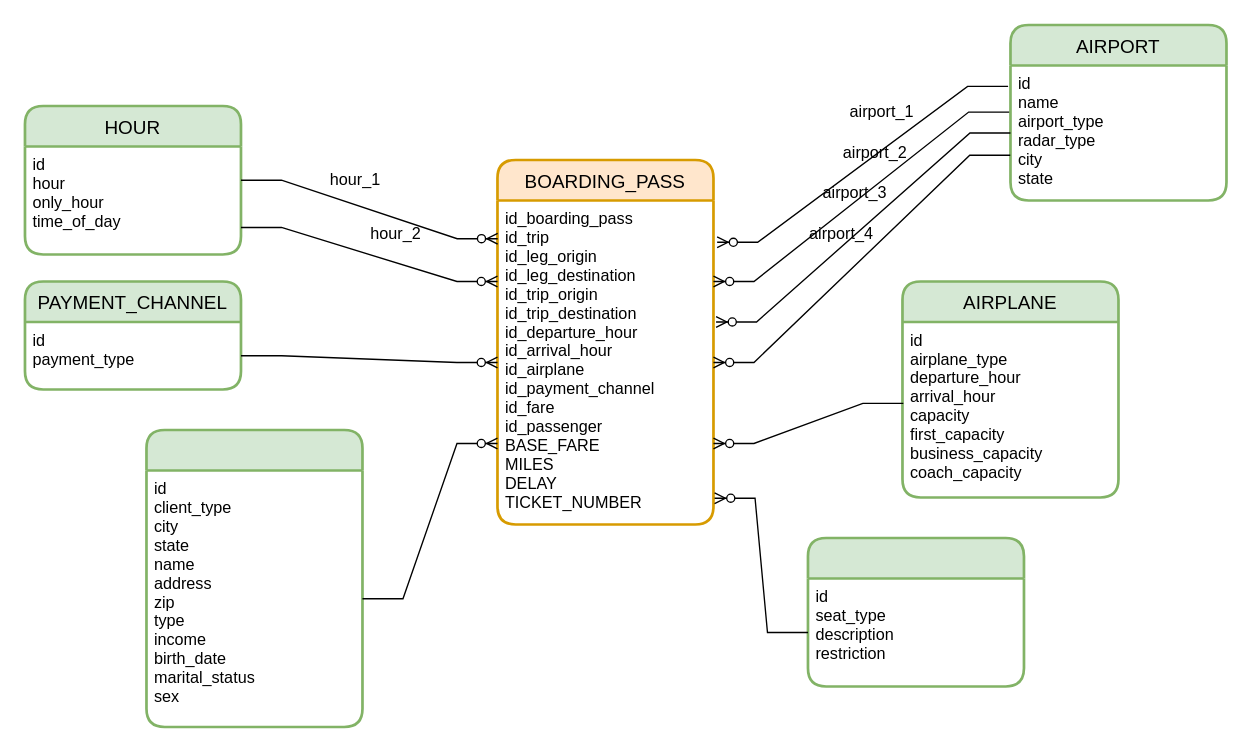
The diagram is 1250 pixels wide and 751 high, and some of its shapes have lost their labels. Here are the shapes that lost their labels. From the top down, the box of each, then its label:
(144, 428, 363, 728): PASSENGER
(806, 536, 1025, 687): FARE
